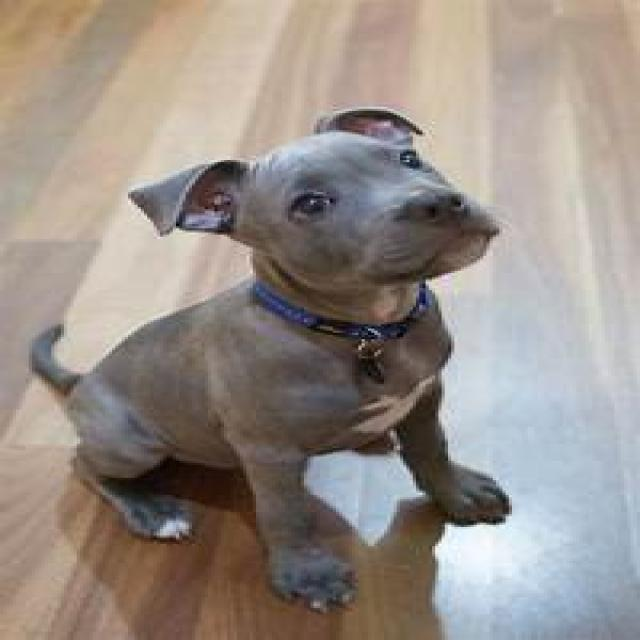dog: (26, 105, 512, 614)
